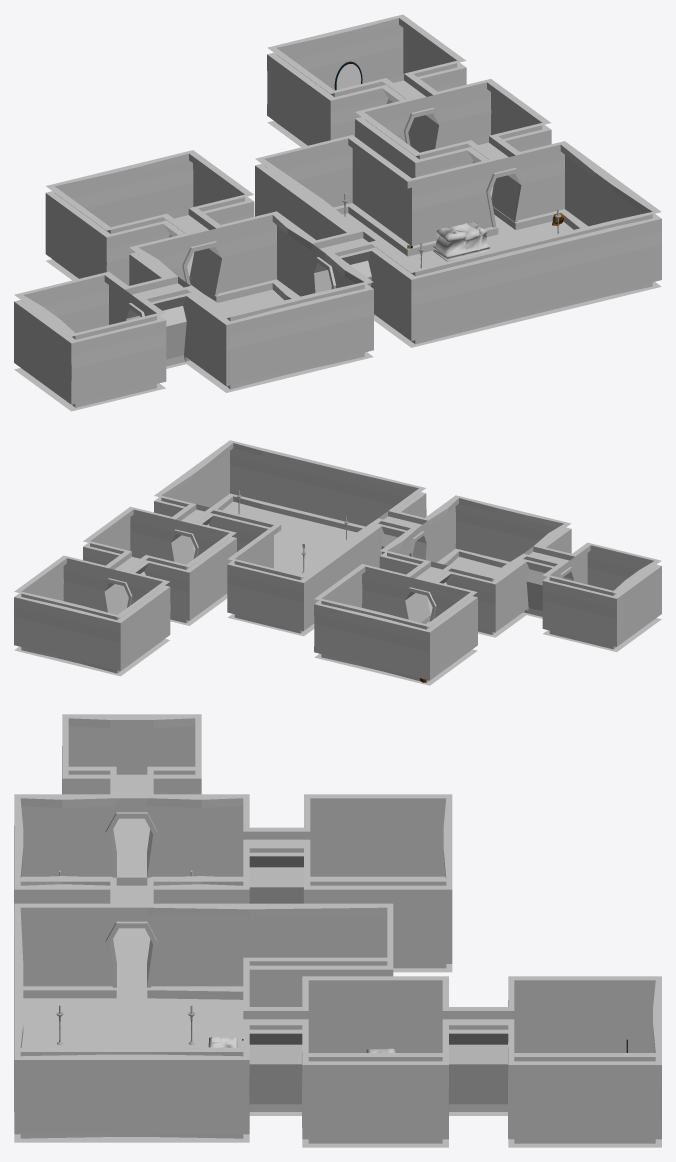
Rendered from NewNewLayout.fbx.
The picture shows the model from 3 angles, top to bottom: view 1: azimuth 30°, elevation 25°; view 2: azimuth 150°, elevation 25°; view 3: azimuth 270°, elevation 25°; orthographic projection. The views are drawn at different scales.
Parts seen in each view (by area): view 1: Plane.006, Casket_01, Plane.007, Plane.013, Cylinder.001; view 2: Plane.006; view 3: Plane.006, Plane.011, Plane.015.
Boxes of the visible parts, <box> form: Plane.006: <box>14,14,661,411</box>; Casket_01: <box>433,221,490,261</box>; Plane.007: <box>486,168,524,227</box>; Plane.013: <box>182,241,225,296</box>; Cylinder.001: <box>334,61,362,90</box>; Plane.006: <box>14,440,661,685</box>; Plane.006: <box>14,714,661,1147</box>; Plane.011: <box>105,921,157,987</box>; Plane.015: <box>105,812,157,877</box>.
Size of the model in its own units: 6851 by 945 by 5476.
